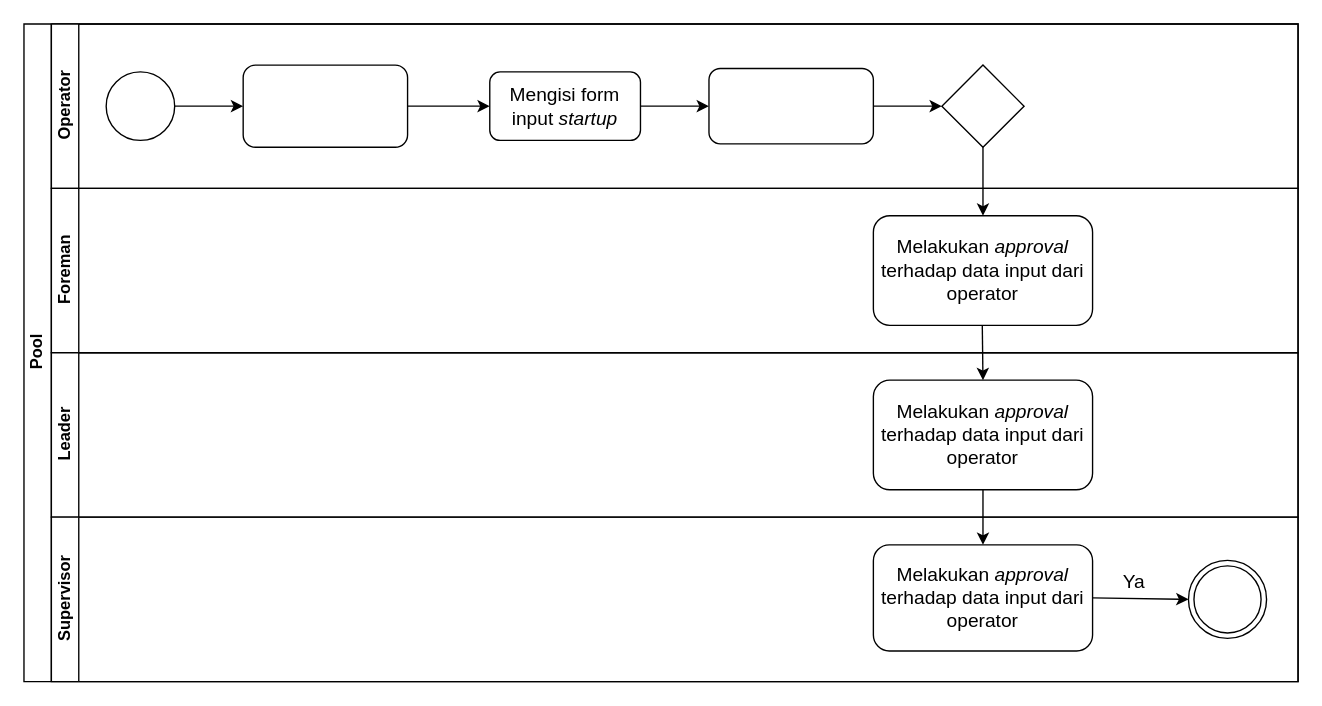
This 1322x706 diagram has some shape labels left out. The shapes that lost their labels are listed below. From the top down, each one's centre as x and y in pixels, then its label:
At [140,105]: "Start".
At [325,105]: "Memilih tipe device dan process".
At [790,105]: "Mengirim input startup".
At [982,105]: "Submit".
At [1227,598]: "Finish".
